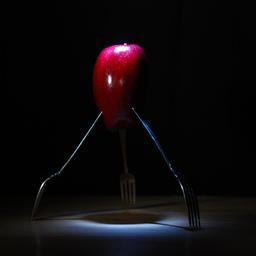apple: (92, 43, 145, 132)
